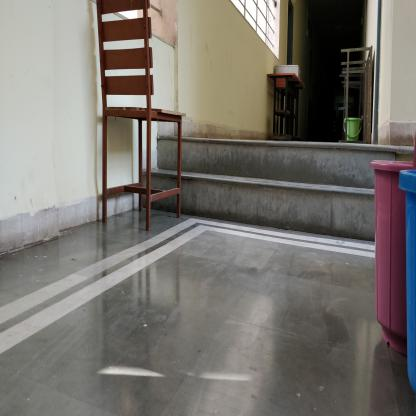stairs: (184, 136, 372, 244)
